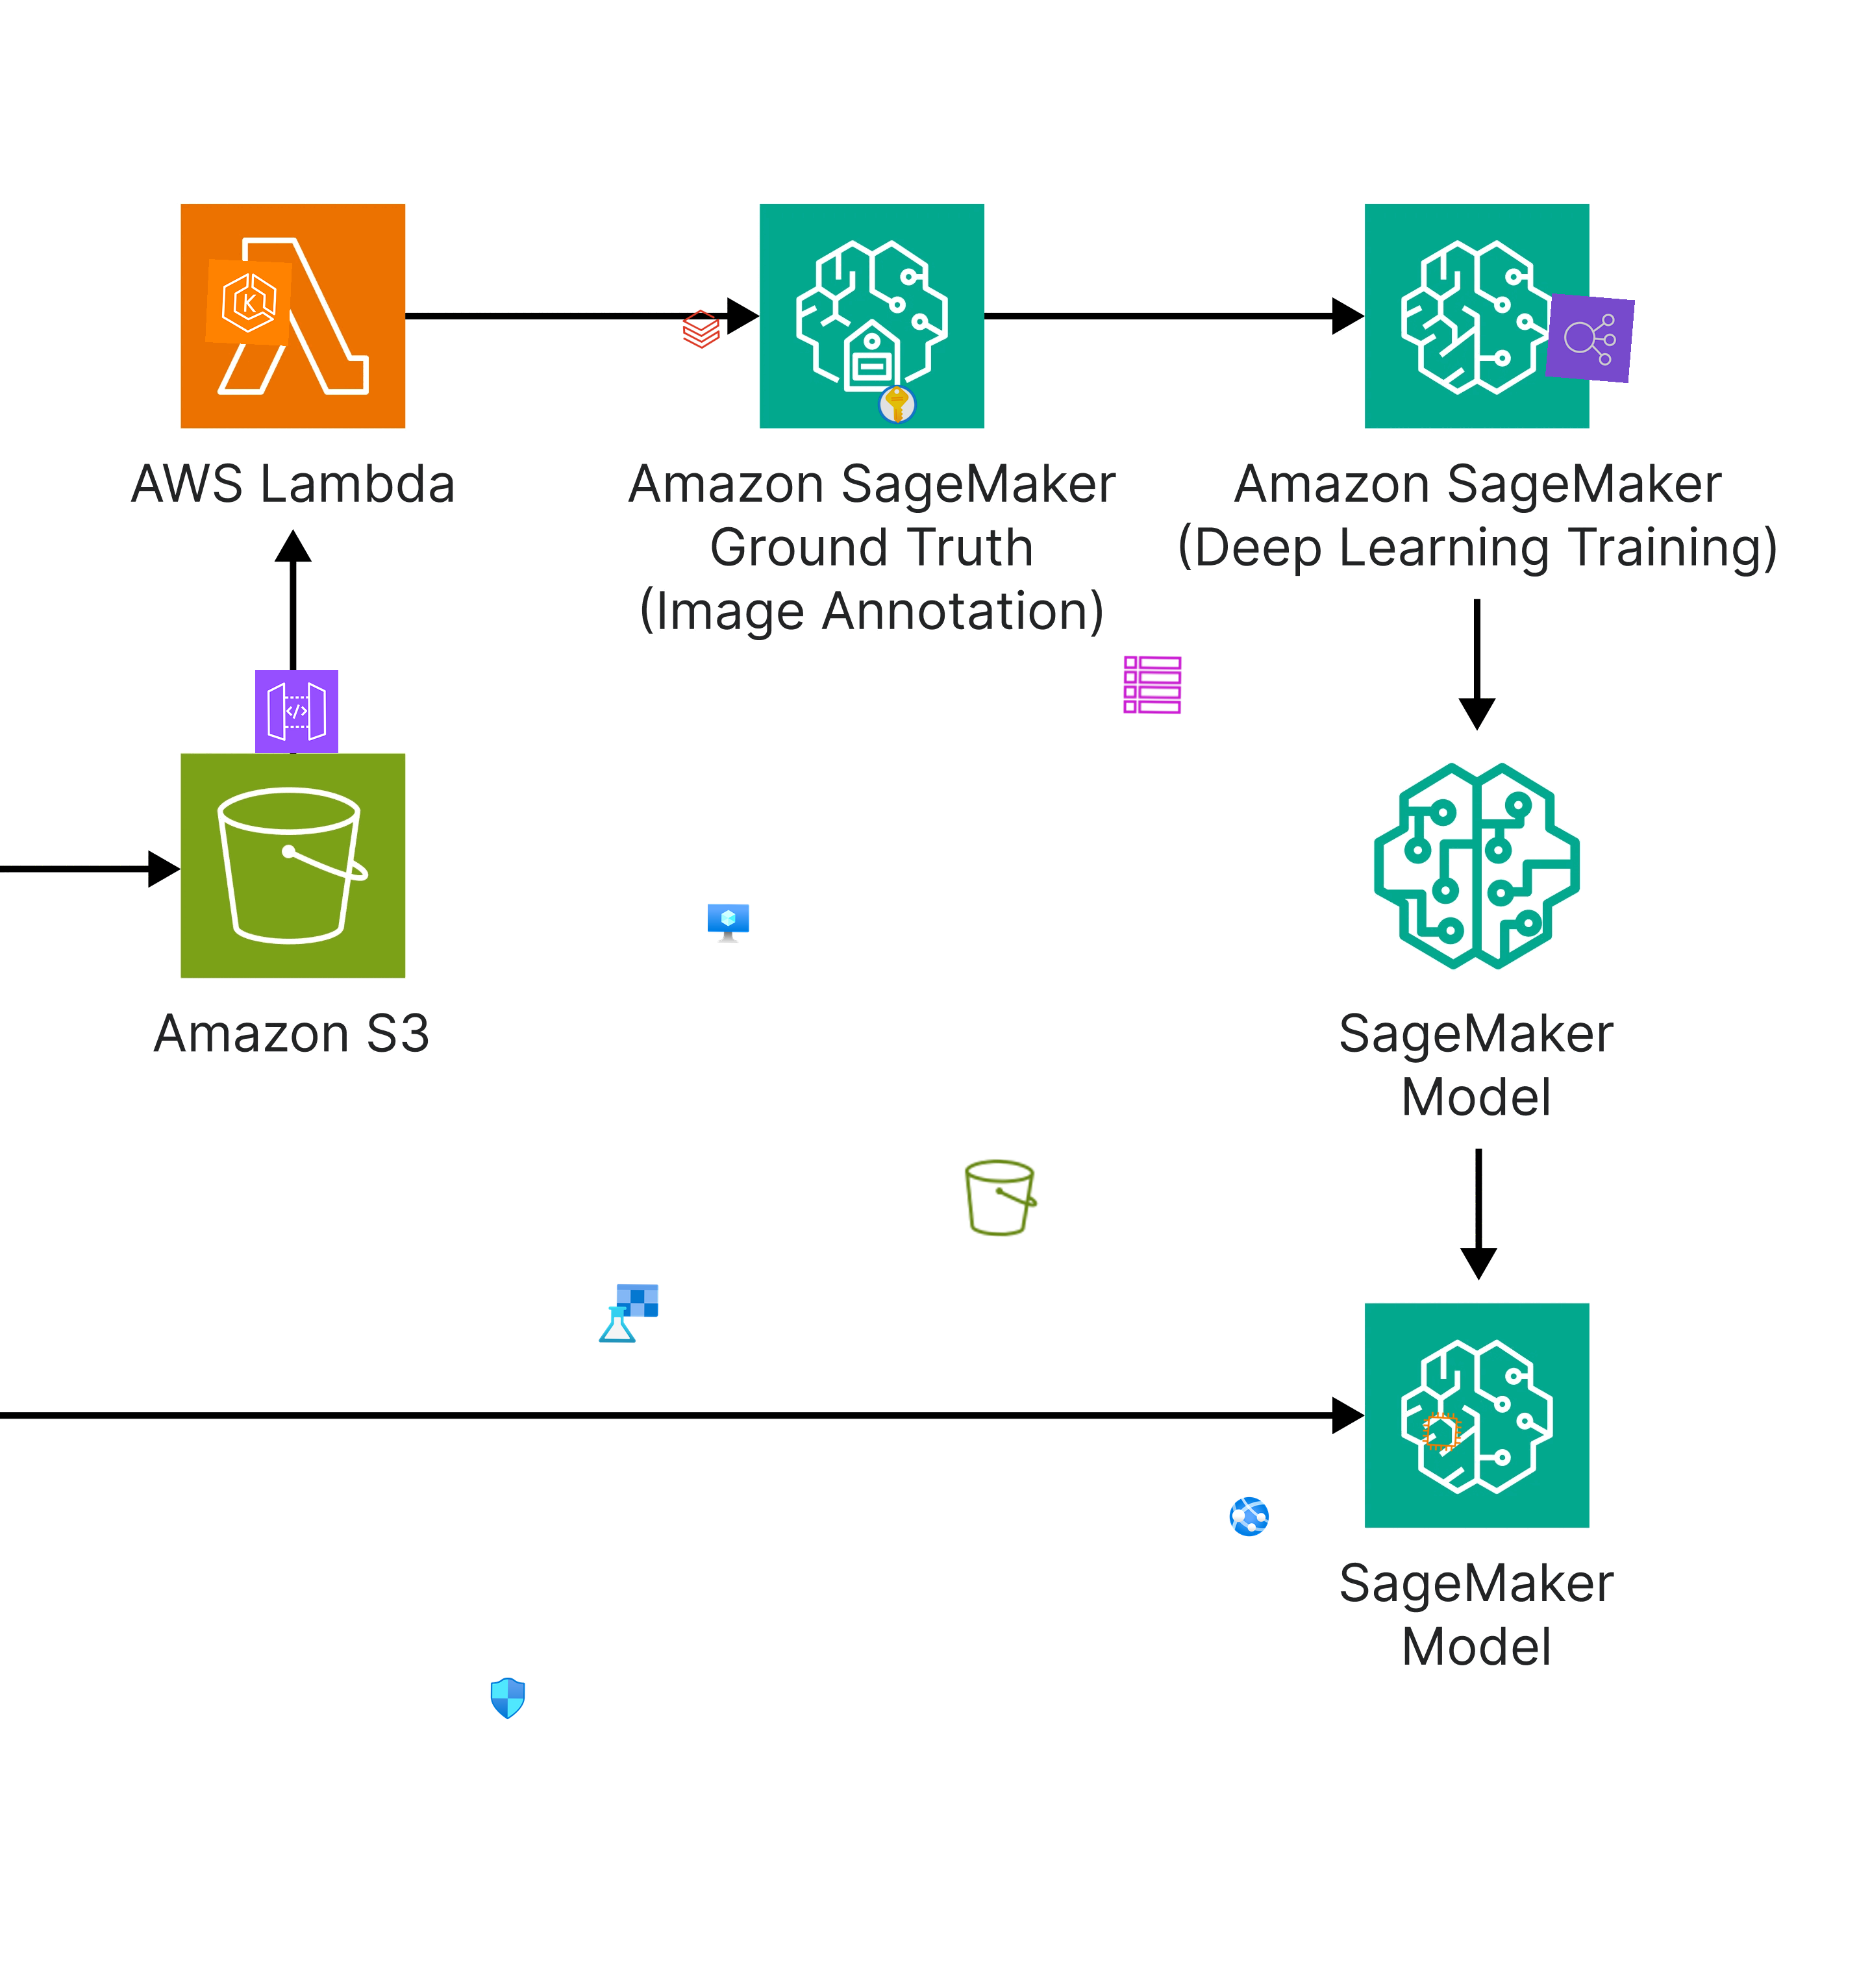aws_amazon_api_gateway: (255, 670, 339, 754)
aws_amazon_elastic_kubernetes_service: (206, 258, 292, 346)
aws_dynamodb_table: (1121, 654, 1185, 717)
aws_ec2_instance: (1420, 1410, 1464, 1454)
aws_elastic_load_balancing: (1545, 294, 1636, 383)
aws_simple_storage_service_s3_standard: (958, 1155, 1044, 1241)
azure_app_services: (1229, 1496, 1271, 1538)
azure_databricks: (678, 308, 724, 352)
azure_key_vaults: (875, 383, 919, 427)
azure_machine_learning_studio_workspaces: (598, 1281, 661, 1345)
azure_network_security_groups: (487, 1677, 529, 1719)
azure_virtual_machine: (707, 903, 750, 946)
